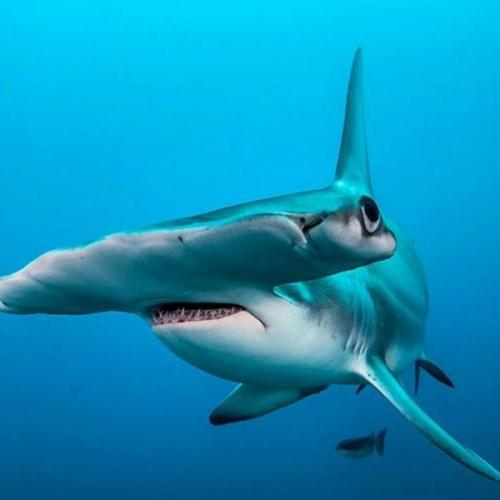shark-endangered: (17, 49, 494, 478)
